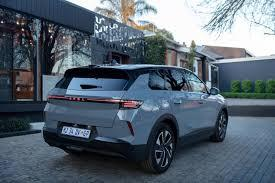opel: (68, 94, 87, 102)
